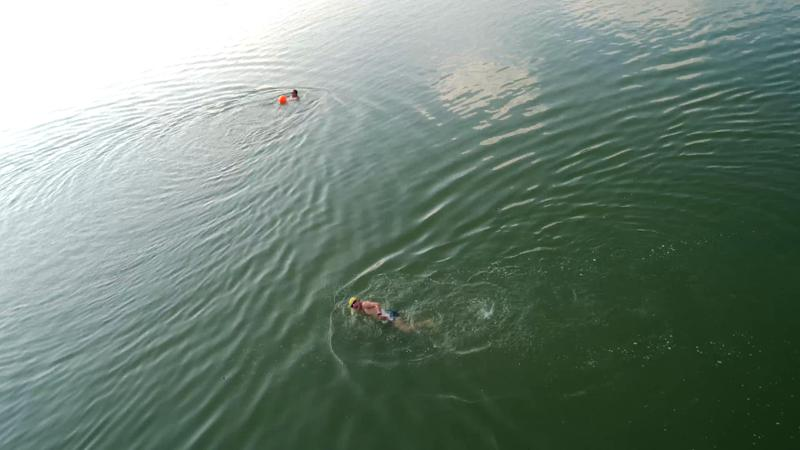swimmers: (349, 297, 433, 334), (277, 88, 299, 106)
